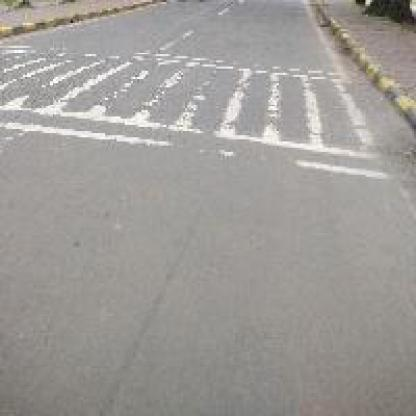Speed Bump: (0, 35, 387, 183)
